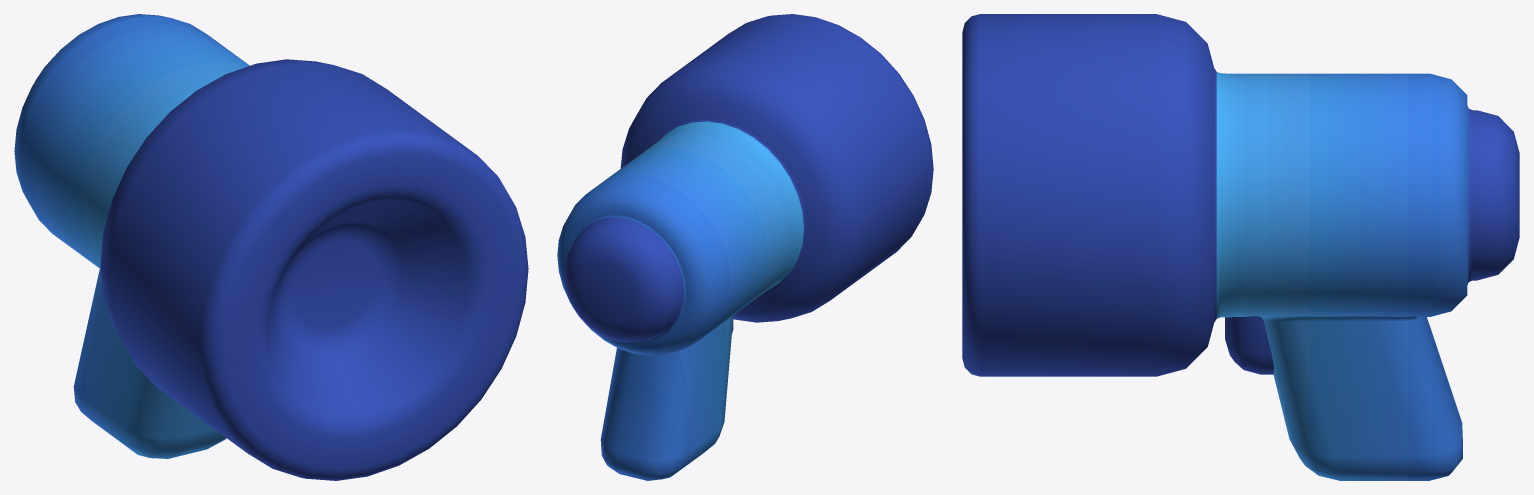
File: gun_model.glb
3 views of the same model, side by side, from view 1: azimuth 30°, elevation 25°; view 2: azimuth 150°, elevation 25°; view 3: azimuth 270°, elevation 25° (orthographic). The views are drawn at different scales.
Visible parts, largest first — view 1: BlueGun; view 2: BlueGun; view 3: BlueGun.
Boxes of the visible parts, box(x1,y1,x2,y2) form: BlueGun: box(14, 14, 528, 480); BlueGun: box(557, 14, 933, 480); BlueGun: box(962, 14, 1519, 480).
Bounding box in the file's own units: 0.614 × 0.816 × 0.942.
1 material, 1 textured.
